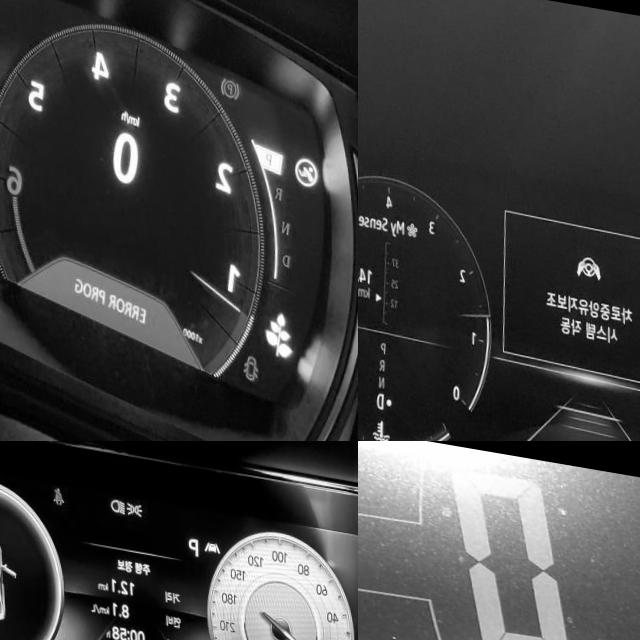Doors: (239, 337, 256, 365)
Low beam: (108, 486, 125, 505)
SideLamp: (124, 488, 141, 507)
